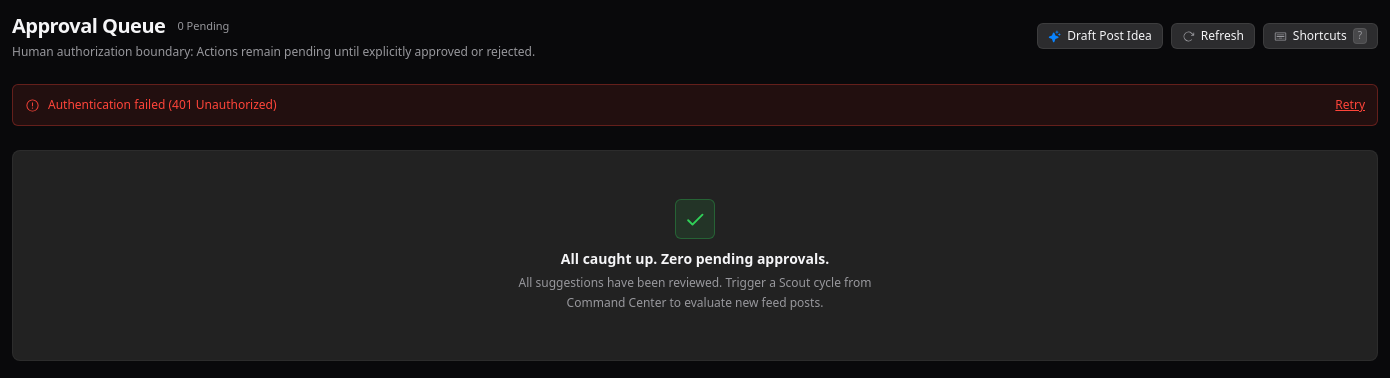
Test: ApprovalQueueView › renders error banner with retry button when fetchState throws
This screenshot has width=1390, height=378.
Expected: the element with test id "queue-fetch-error" is shown, [12, 84, 1378, 126]
Expected: the text "Authentication failed (401 Unauthorized)" is shown, [48, 96, 277, 113]
Click the button "Retry" at (1350, 105), box [1335, 97, 1365, 113]
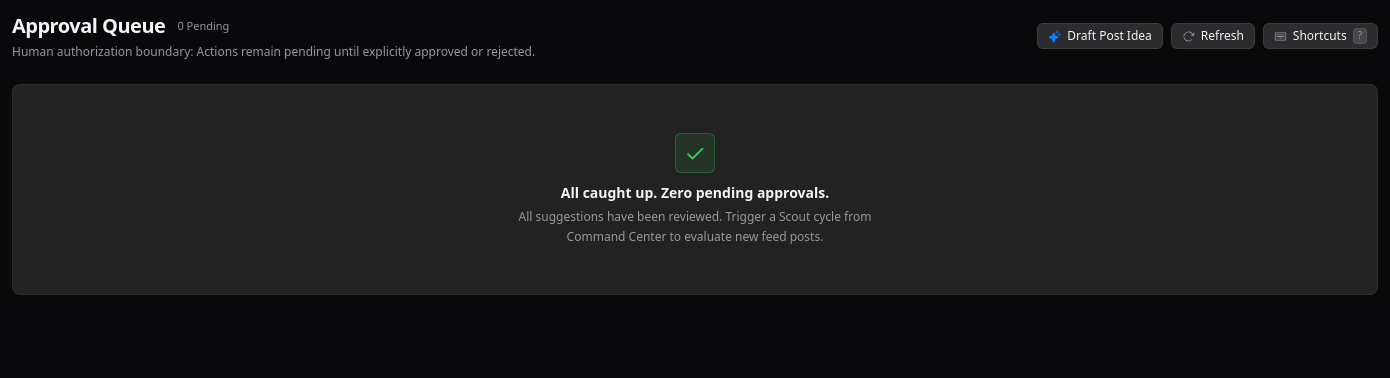
Expected: the element with test id "queue-fetch-error" is gone
